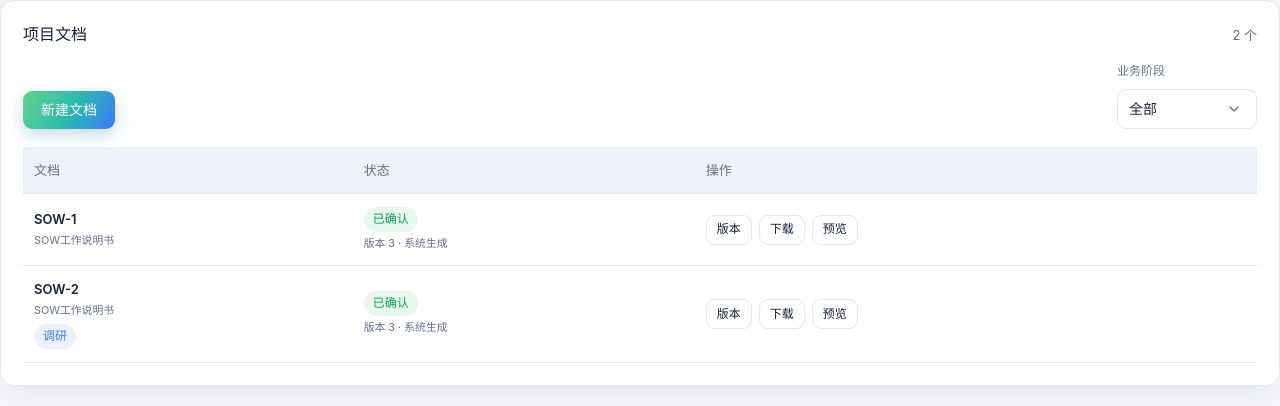
Test case: project documents workspace › filters the document list by business category and requests only matching rows
The width and height of the screenshot is (1280, 406).
Expected: the table named "项目文档" is shown, [23, 147, 1257, 363]
Expected: the text "SOW-1" is shown, [34, 211, 76, 227]
Select "调研" in the dropdown named "筛选业务阶段" at (1187, 109), box [1117, 89, 1257, 129]
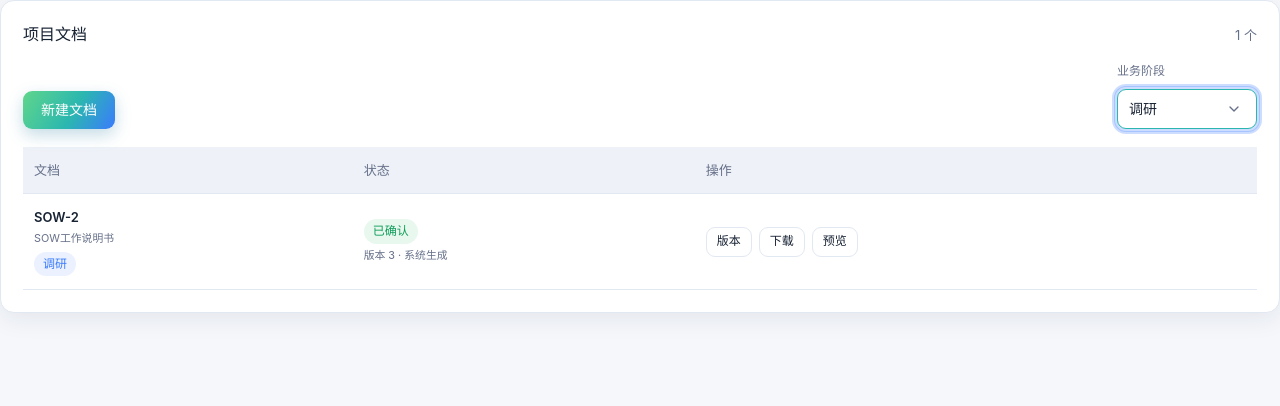
Expected: the text "SOW-2" is shown, [34, 209, 79, 225]
Now the text "SOW-1" is gone
